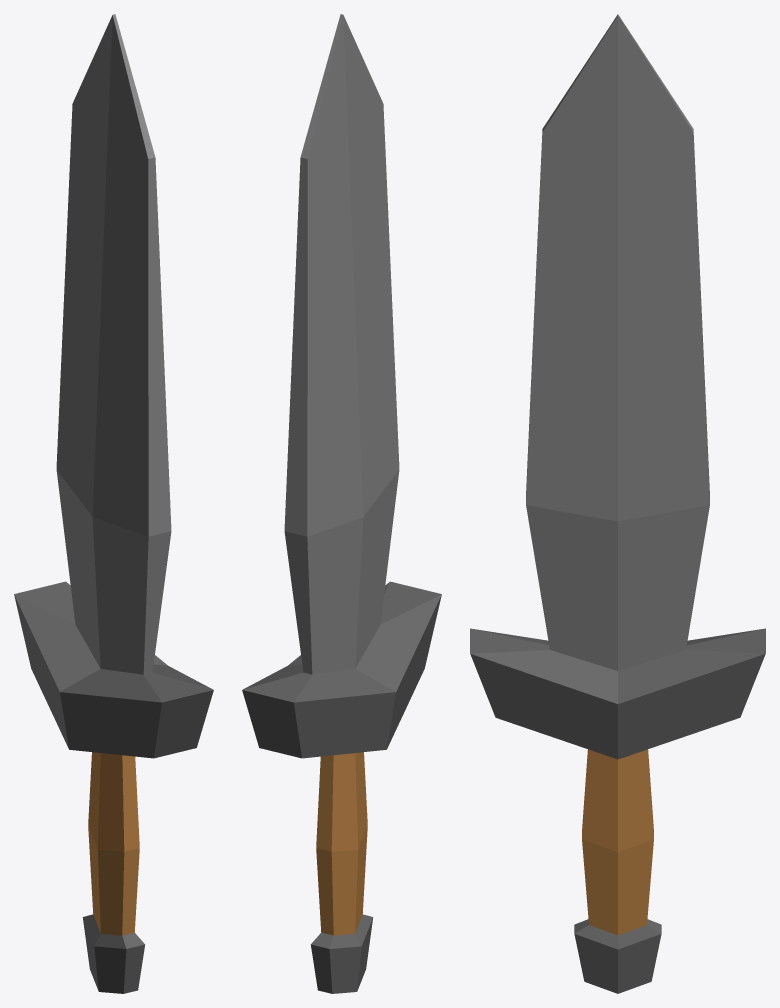
Rendered from Sword.fbx.
The picture shows the model from 3 angles, left to right: view 1: azimuth 30°, elevation 25°; view 2: azimuth 150°, elevation 25°; view 3: azimuth 270°, elevation 25°; orthographic projection.
Visible parts, largest first — view 1: kilic.002; view 2: kilic.002; view 3: kilic.002.
Boxes of the visible parts, x1,y1,x2,y2 form: kilic.002: [14, 14, 213, 993]; kilic.002: [242, 14, 441, 993]; kilic.002: [470, 14, 765, 993].
Bounding box in the file's own units: 36.67 × 315 × 86.86.
